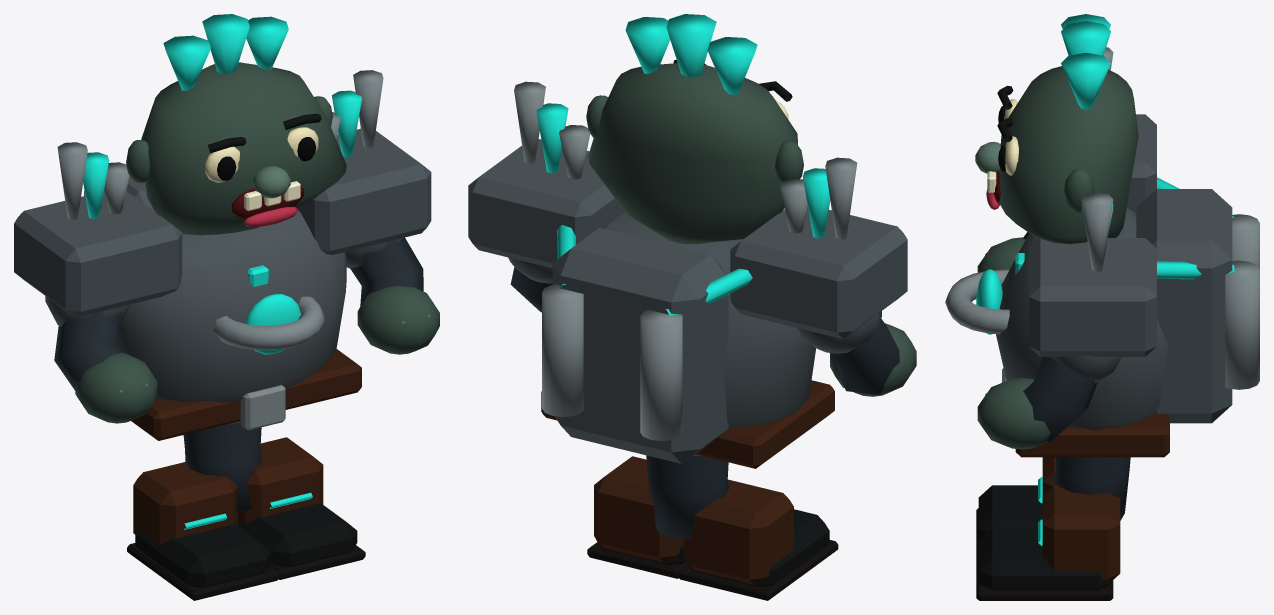
Rendered from overlord.glb.
3 views of the same model, side by side, from view 1: azimuth 30°, elevation 25°; view 2: azimuth 150°, elevation 25°; view 3: azimuth 270°, elevation 25° (orthographic). The views are drawn at different scales.
Parts seen in each view (by area): view 1: Arms, Body, Head, LegL, LegR; view 2: Body, Arms, Head, LegL, LegR; view 3: Body, Arms, Head, LegR, LegL.
Part boxes in pixels (x1=…): Arms: x1=14, y1=70, x2=439, y2=423; Body: x1=84, y1=176, x2=361, y2=440; Head: x1=126, y1=14, x2=346, y2=235; LegL: x1=127, y1=423, x2=279, y2=600; LegR: x1=199, y1=427, x2=365, y2=579; Body: x1=541, y1=212, x2=834, y2=468; Arms: x1=468, y1=81, x2=916, y2=396; Head: x1=586, y1=14, x2=803, y2=244; LegL: x1=646, y1=455, x2=838, y2=600; LegR: x1=587, y1=456, x2=727, y2=578; Body: x1=945, y1=177, x2=1259, y2=457; Arms: x1=977, y1=47, x2=1156, y2=449; Head: x1=975, y1=14, x2=1138, y2=243; LegR: x1=976, y1=457, x2=1129, y2=600; LegL: x1=976, y1=457, x2=1130, y2=551.
Bounding box in the file's own units: 0.94 × 1.27 × 0.688.
Materials: 1 (1 with a texture image).
